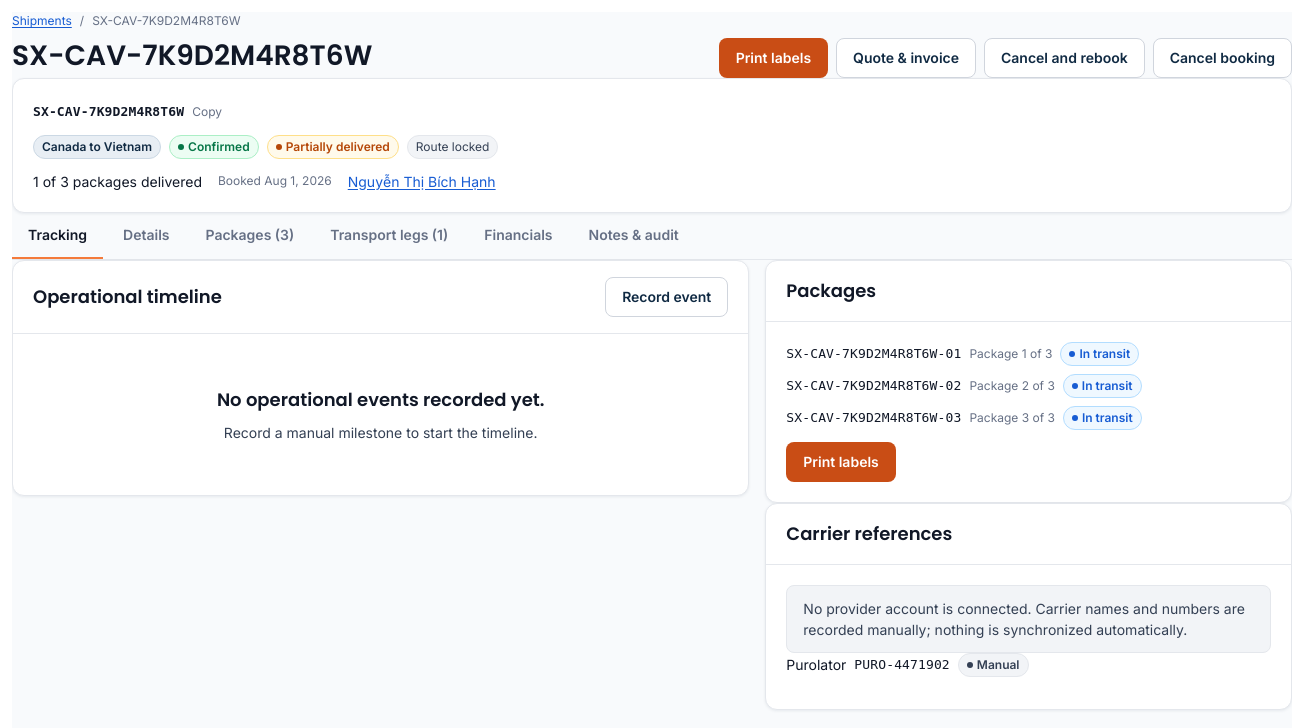
Scenario: ShipmentDetailPage › renders an unrecorded profit as Unknown rather than zero
What coordinates should you click on to do the following:
click the tab "Financials"
I would click on:
 (518, 236)
Its box is [468, 212, 569, 258].
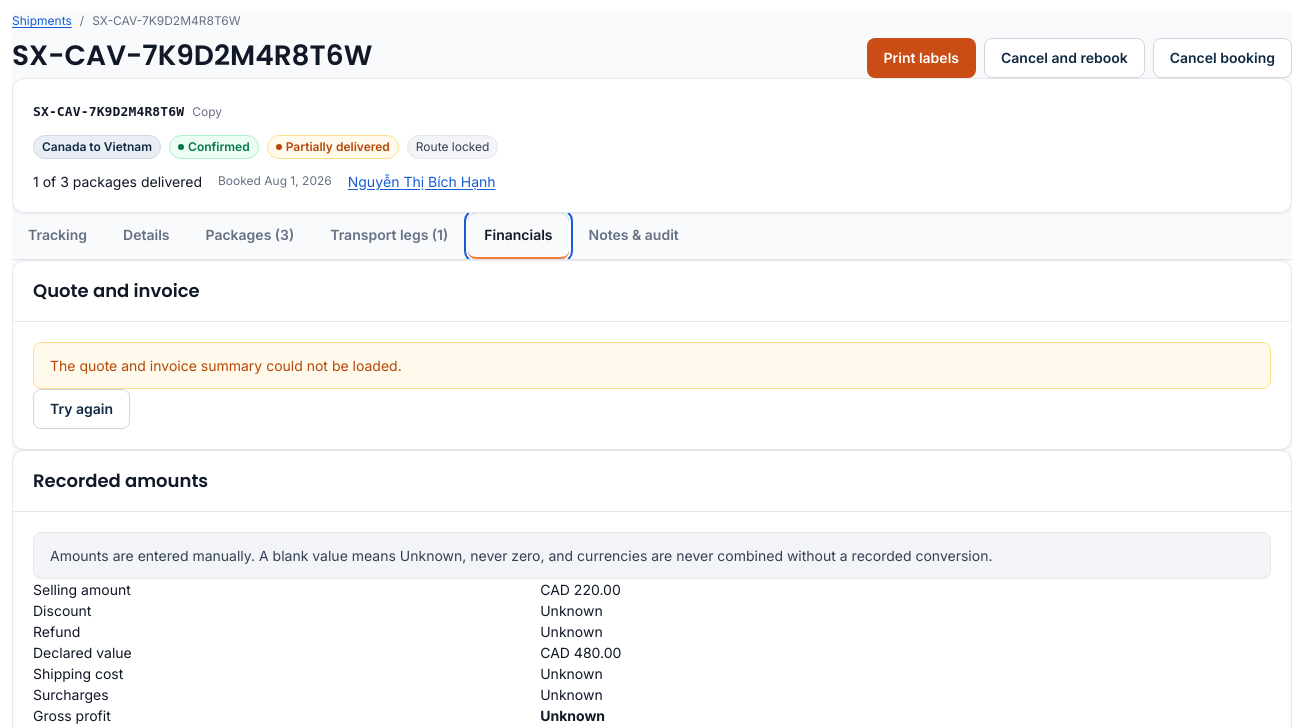
expect the text "Gross profit" is shown: met, box [33, 706, 111, 724]
expect the text "Unknown" in the row of "Discount" is shown: met, box [540, 602, 603, 618]
